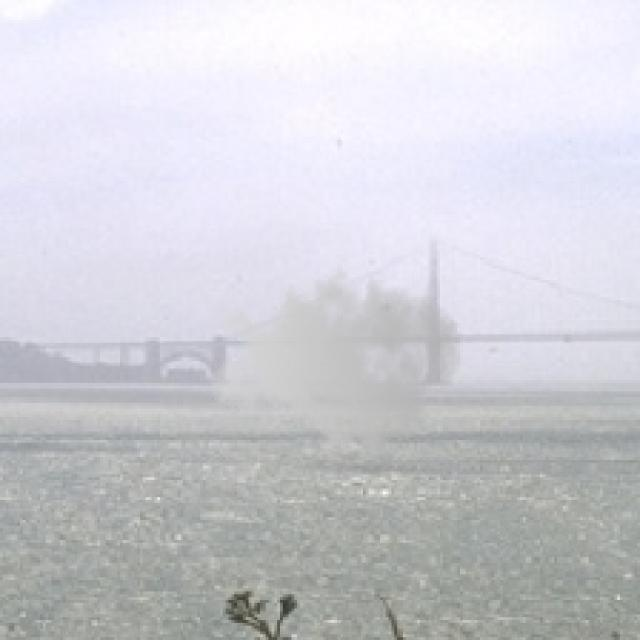smoke: (208, 254, 463, 463)
